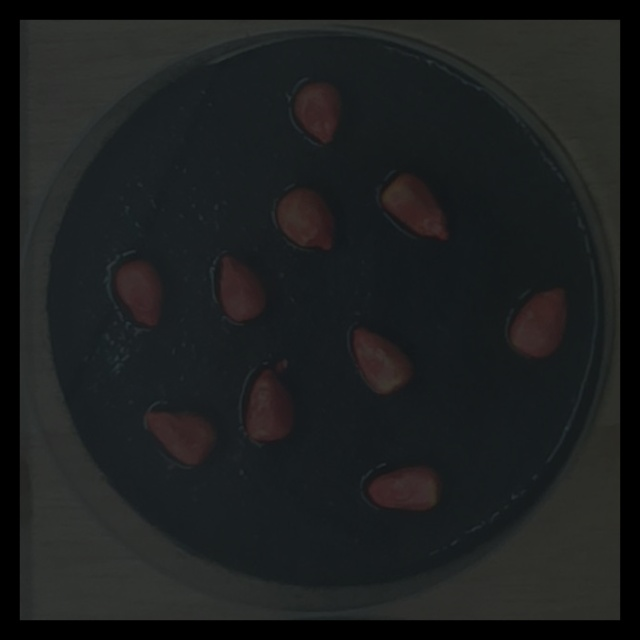Zea mays: (373, 163, 454, 249), (137, 398, 225, 474), (502, 276, 575, 363), (345, 319, 420, 402), (268, 178, 342, 259), (240, 355, 303, 449), (359, 456, 449, 517), (284, 73, 350, 153), (108, 250, 169, 335), (213, 246, 274, 329)
